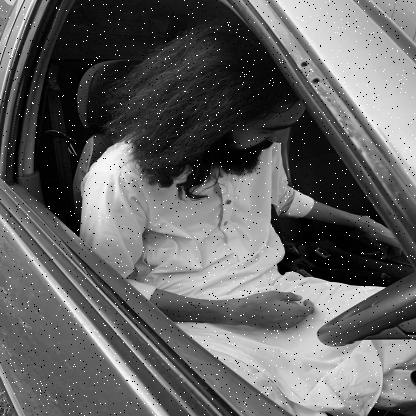no_seatbelt: (100, 21, 294, 306)
